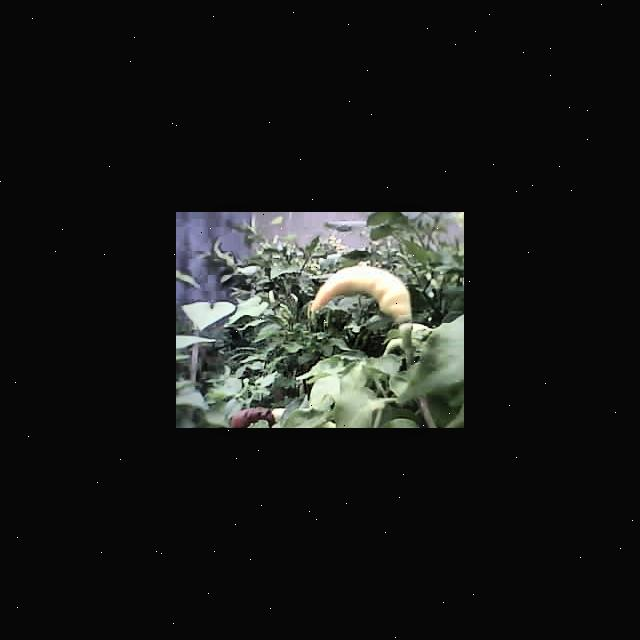Cabai: (314, 265, 413, 338)
